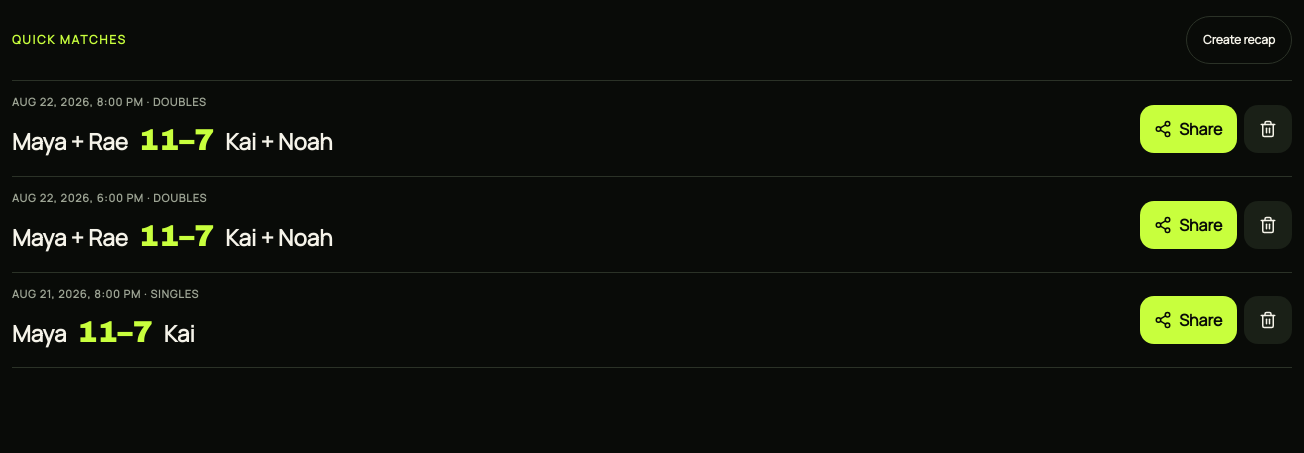
Test: Quick Match recap selection › preselects the newest local day, allows toggling, and restores ledger actions on cancel
Check: the number of buttons "Share" is 3, box top-left (1140, 104), bottom-right (1237, 152); top-left (1140, 200), bottom-right (1237, 248); top-left (1140, 296), bottom-right (1237, 344)
Click the button "Create recap".
click(1239, 40)  # box top-left (1186, 16), bottom-right (1292, 64)
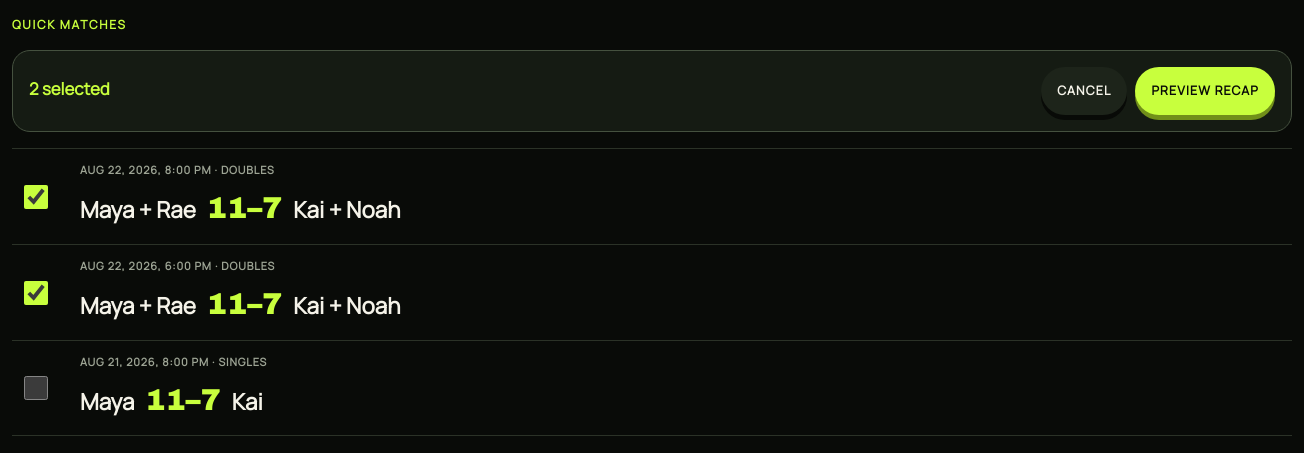
Check: the text "2 selected" is shown, box top-left (29, 77), bottom-right (110, 100)
Check: the element with class "session-ledger__row--selecting" that starts with "Aug 22, 2026, 8:00 PM" is shown, box top-left (12, 148), bottom-right (1292, 244)
Check: the button "Share" is gone
Click the checkbox named "select maya versus kai" below "Aug 21, 2026, 8:00 PM".
click(36, 388)  # box top-left (24, 376), bottom-right (48, 400)
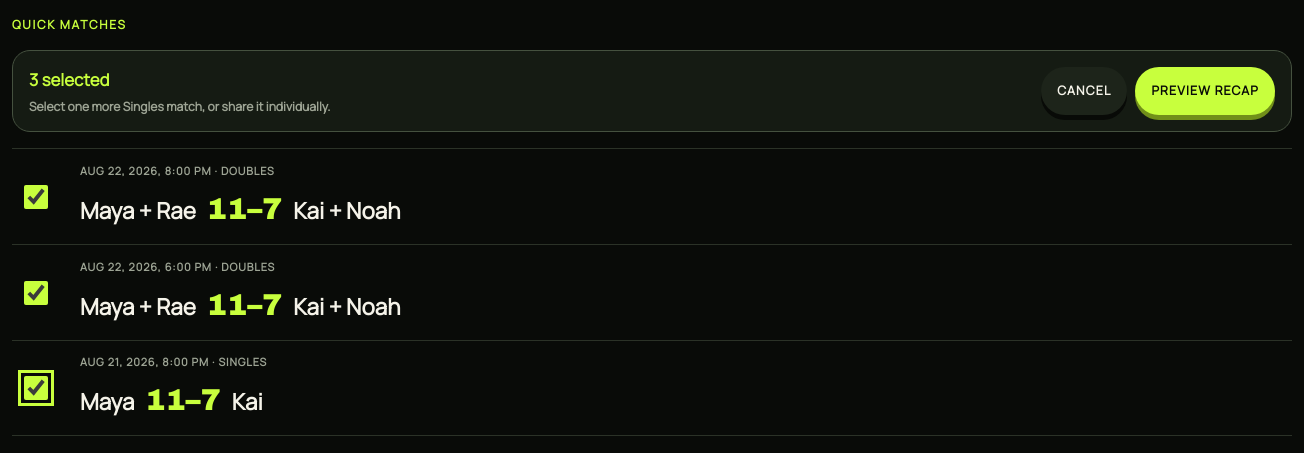
Check: the text "3 selected" is shown, box top-left (29, 68), bottom-right (109, 91)
Click the button "Cancel".
click(1084, 91)  # box top-left (1041, 67), bottom-right (1128, 115)
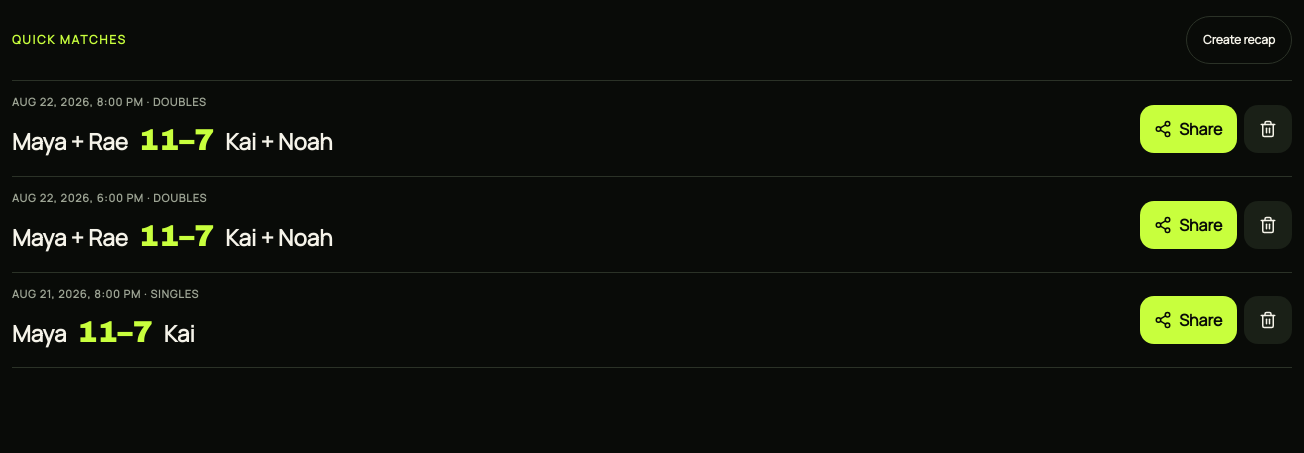
Check: the checkbox is gone
Check: the number of buttons "Share" is 3, box top-left (1140, 104), bottom-right (1237, 152); top-left (1140, 200), bottom-right (1237, 248); top-left (1140, 296), bottom-right (1237, 344)
